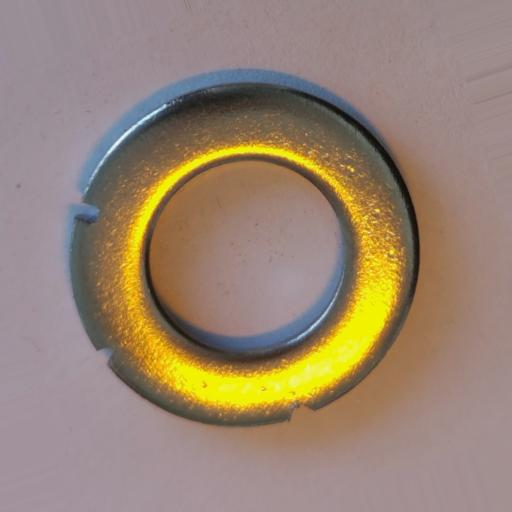burr: (85, 323, 110, 353), (71, 202, 103, 223), (288, 401, 314, 423), (95, 344, 116, 365), (307, 396, 330, 411)
